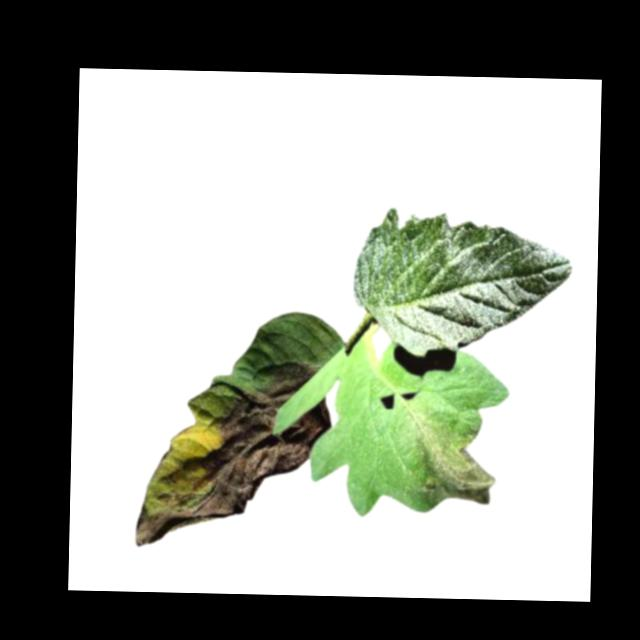Late_blight: (134, 358, 333, 551), (404, 421, 497, 509)
healthy: (350, 205, 576, 362)
